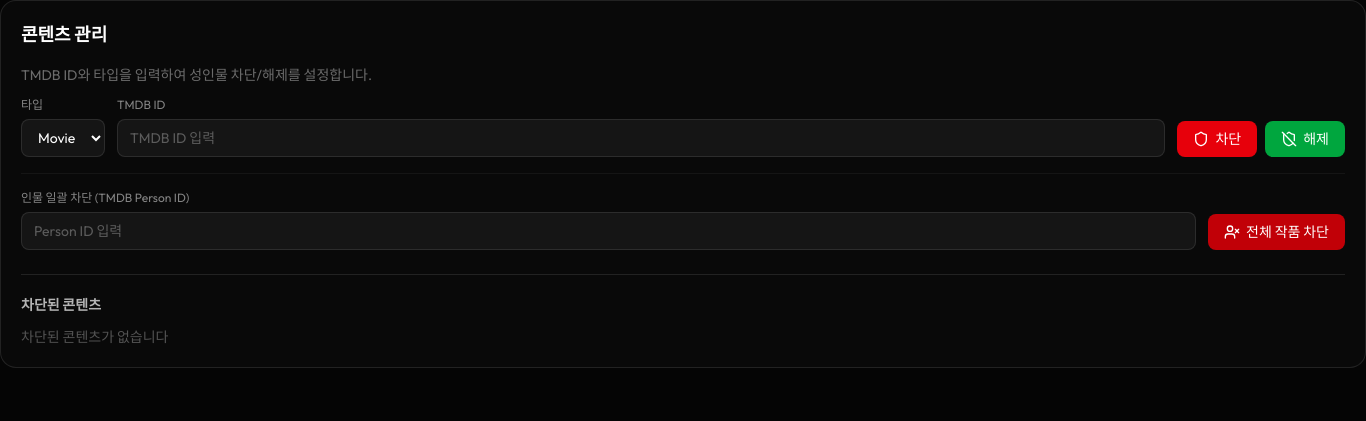
Test: ContentManagement › TMDB ID 없이 해제 버튼 클릭 시 에러 메시지를 표시해야 한다
폼의 해제 버튼 (ShieldOff 아이콘 옆)
Click the button "해제" at (1305, 139), box [1265,121,1345,157]
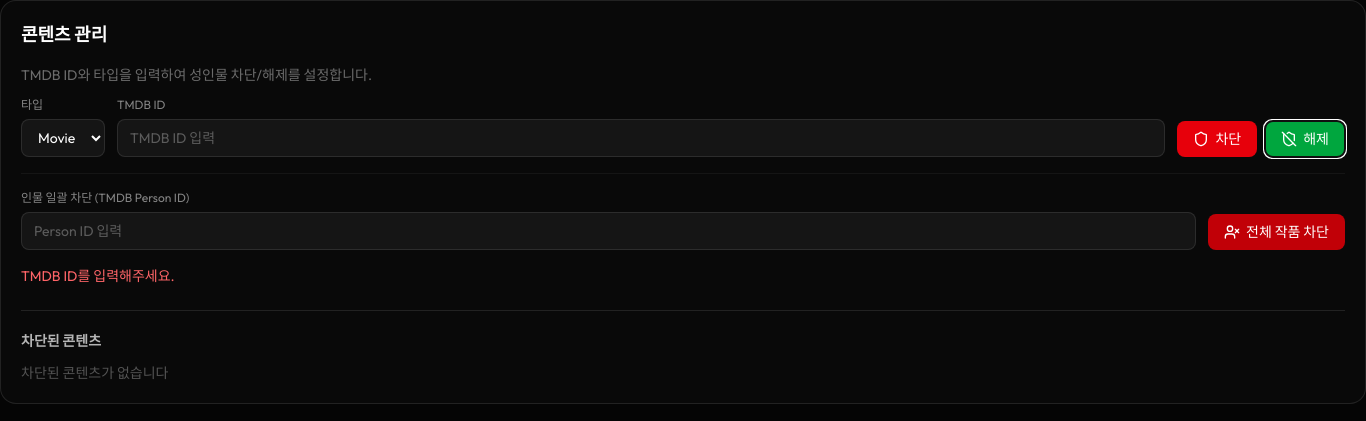
Expected: the text "TMDB ID를 입력해주세요." is shown, [21,267,175,285]
